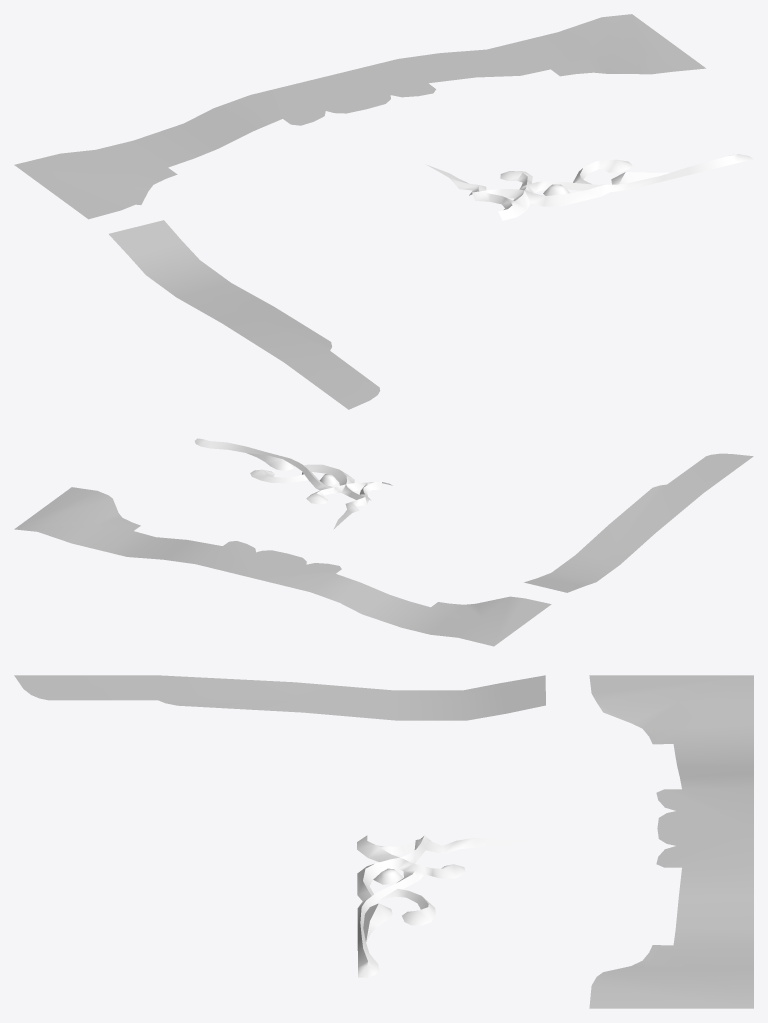
Rendered from model_monumentoCurten2.fbx.
3 views of the same model, one above another, from view 1: azimuth 30°, elevation 25°; view 2: azimuth 150°, elevation 25°; view 3: azimuth 270°, elevation 25° (orthographic). The views are drawn at different scales.
Visible parts, largest first — view 1: curtainTop, curtainSide, monument; view 2: curtainTop, curtainSide, monument; view 3: curtainTop, curtainSide, monument.
Boxes of the visible parts, x1,y1,x2,y2 form: curtainTop: [14, 14, 705, 219]; curtainSide: [109, 220, 380, 409]; monument: [425, 154, 753, 220]; curtainTop: [14, 487, 551, 646]; curtainSide: [524, 453, 753, 592]; monument: [194, 438, 392, 529]; curtainTop: [589, 675, 753, 1008]; curtainSide: [14, 675, 545, 720]; monument: [357, 835, 527, 977].
Bounding box in the file's own units: 200 × 8.02 × 188.
